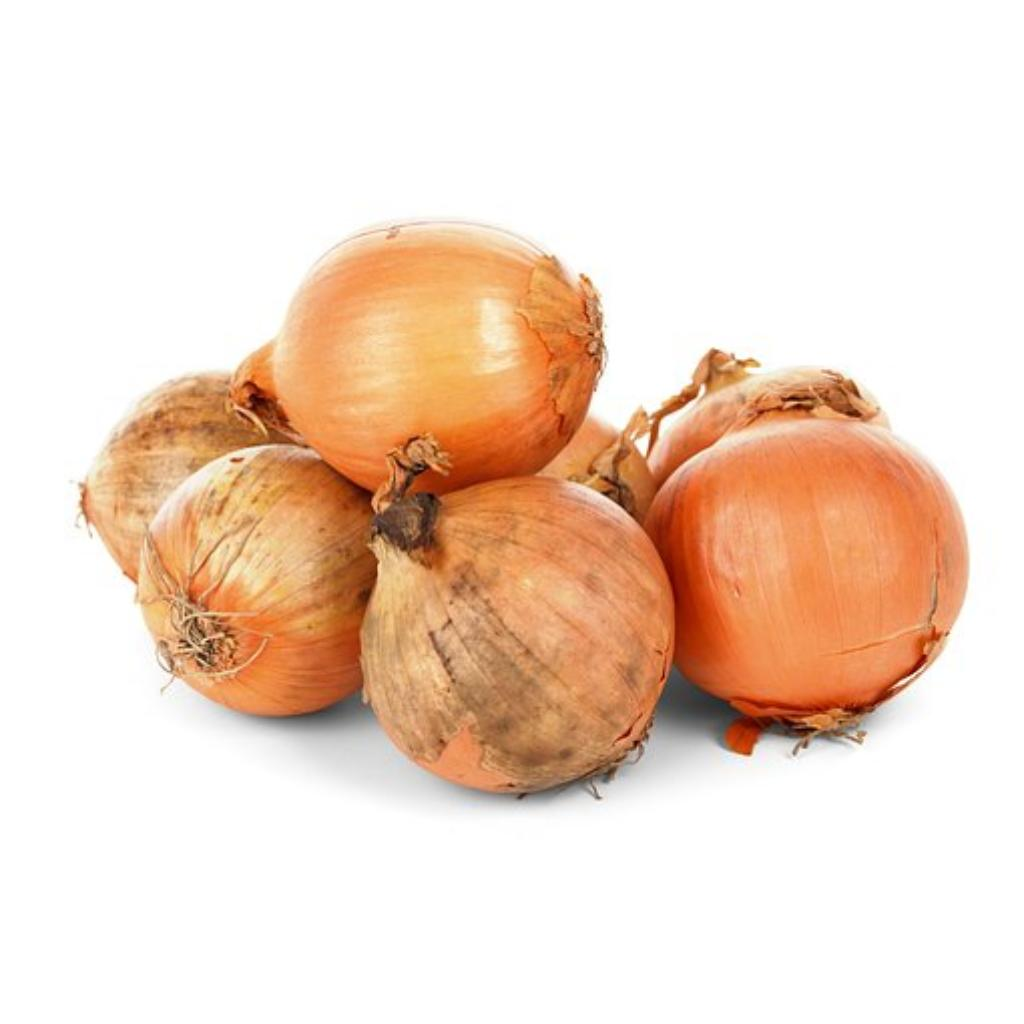Onion: (361, 436, 675, 794), (237, 221, 604, 493), (647, 418, 972, 720), (137, 446, 377, 716), (80, 372, 291, 582)
